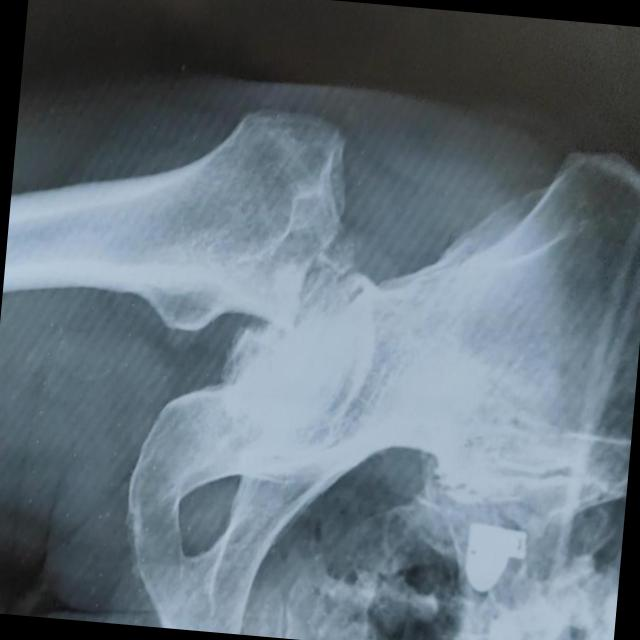left-neck: (64, 108, 346, 331), (218, 268, 374, 455)
